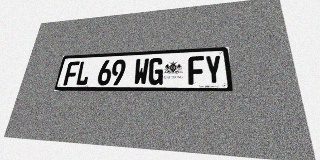6: (97, 60, 113, 85)
9: (110, 59, 126, 85)
F: (188, 56, 205, 85), (63, 61, 80, 85)
G: (148, 57, 164, 85)
L: (75, 61, 92, 85)
W: (133, 58, 149, 85)
Y: (204, 55, 223, 85)
